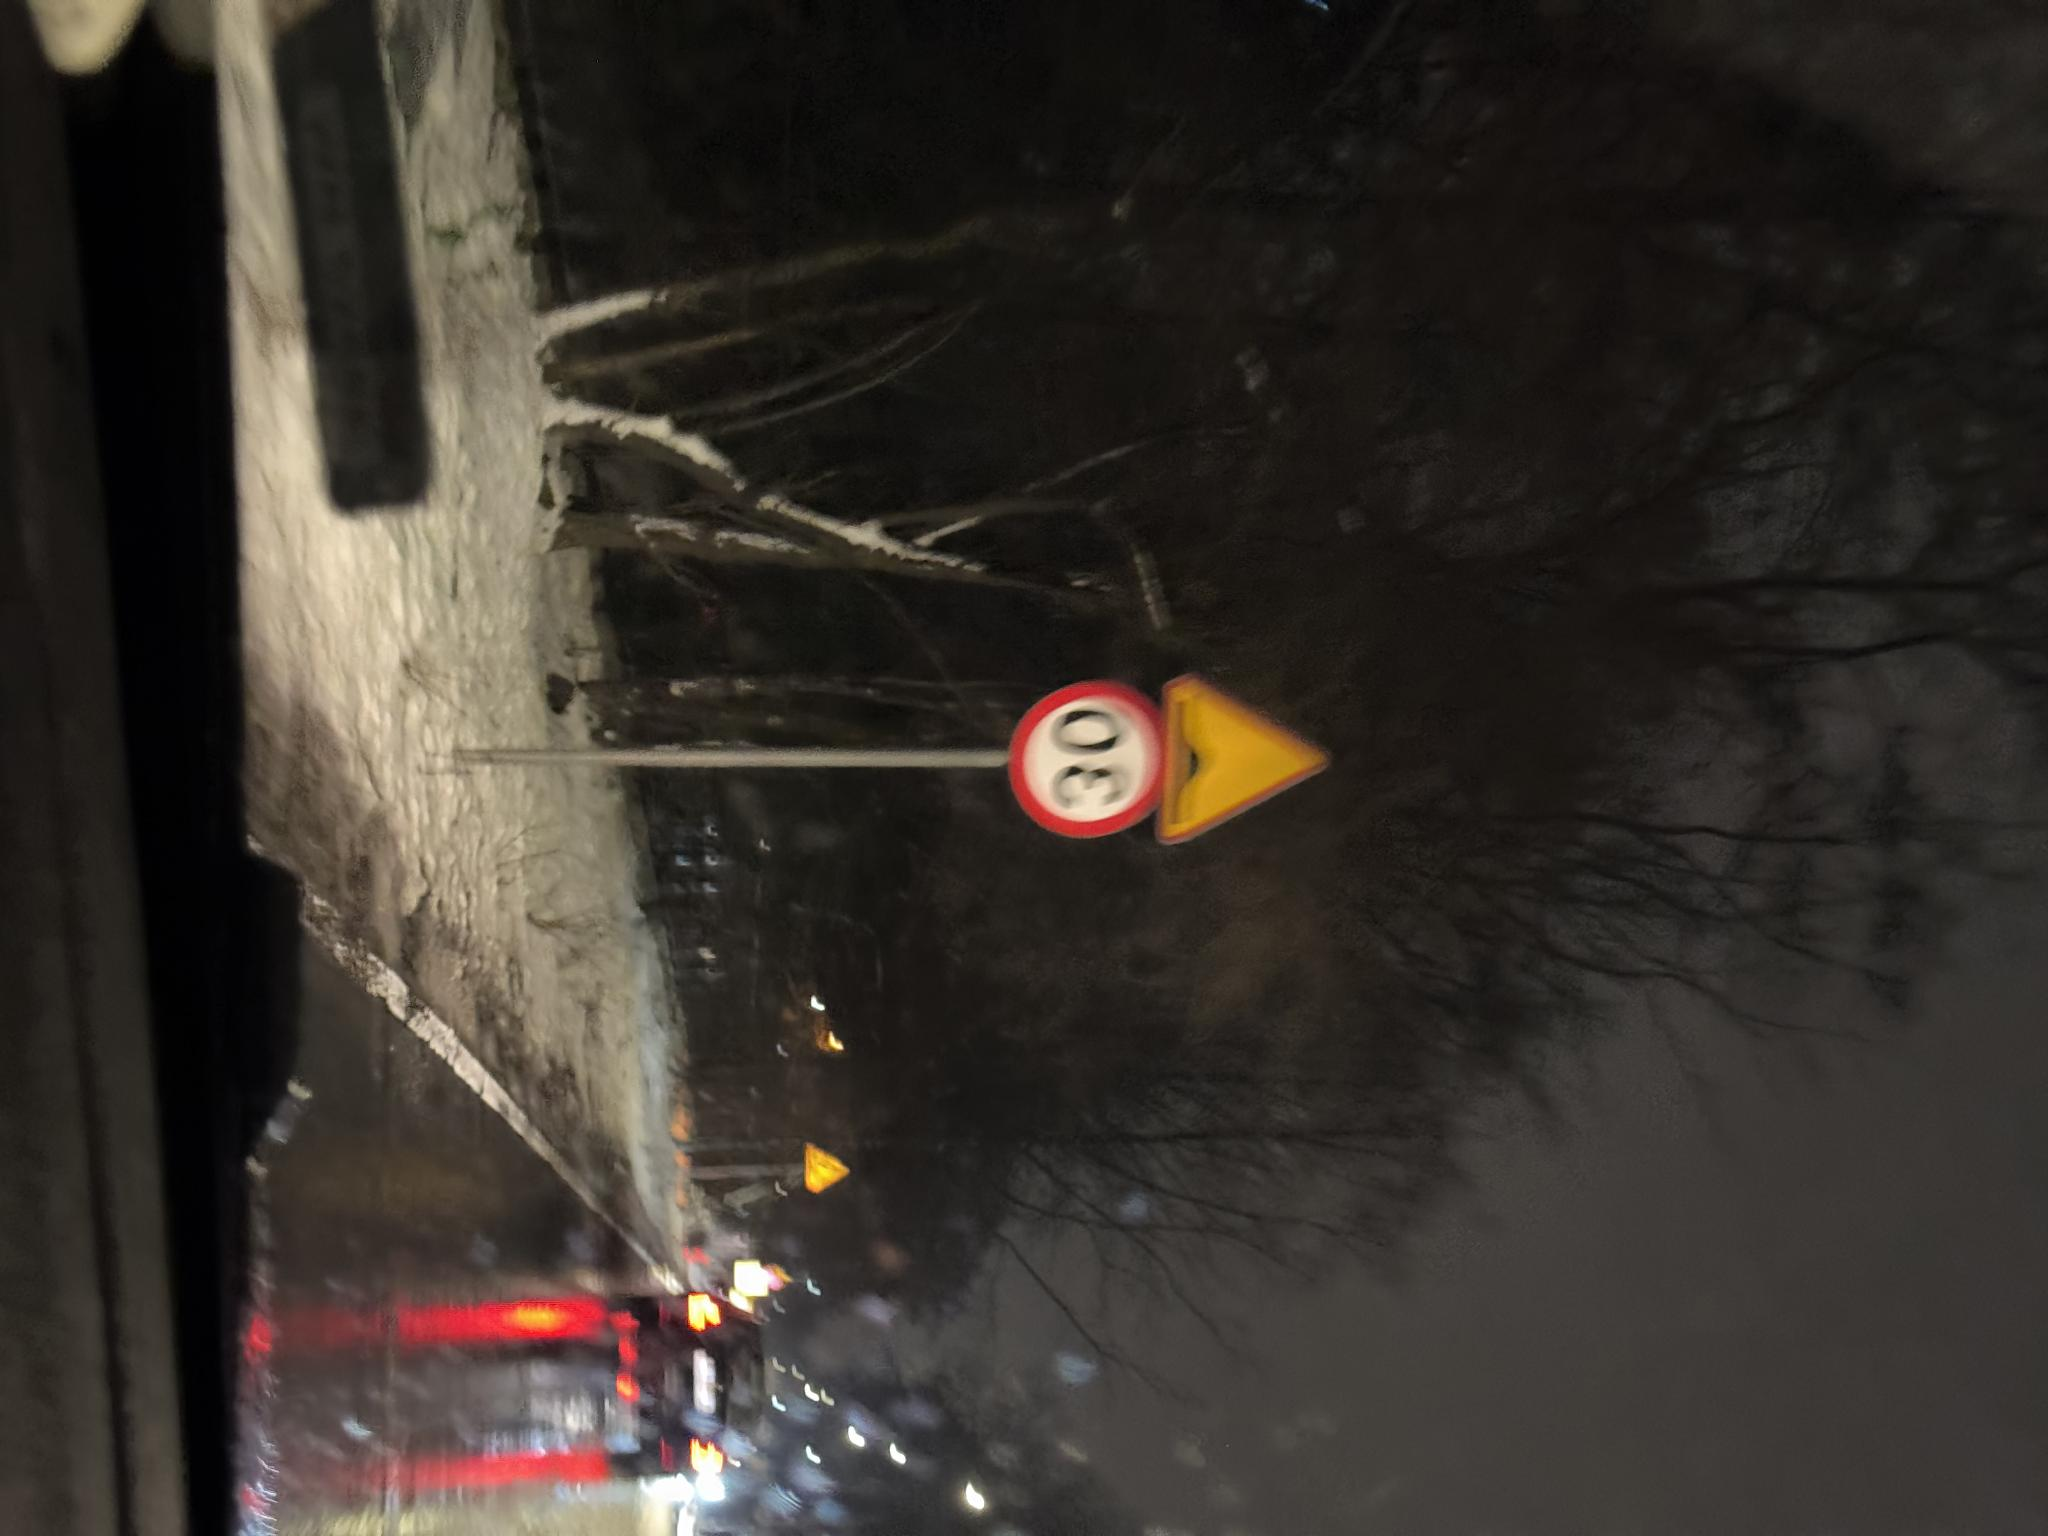prohibitory: (1190, 883, 1350, 1044)
warning: (1185, 720, 1364, 886)
